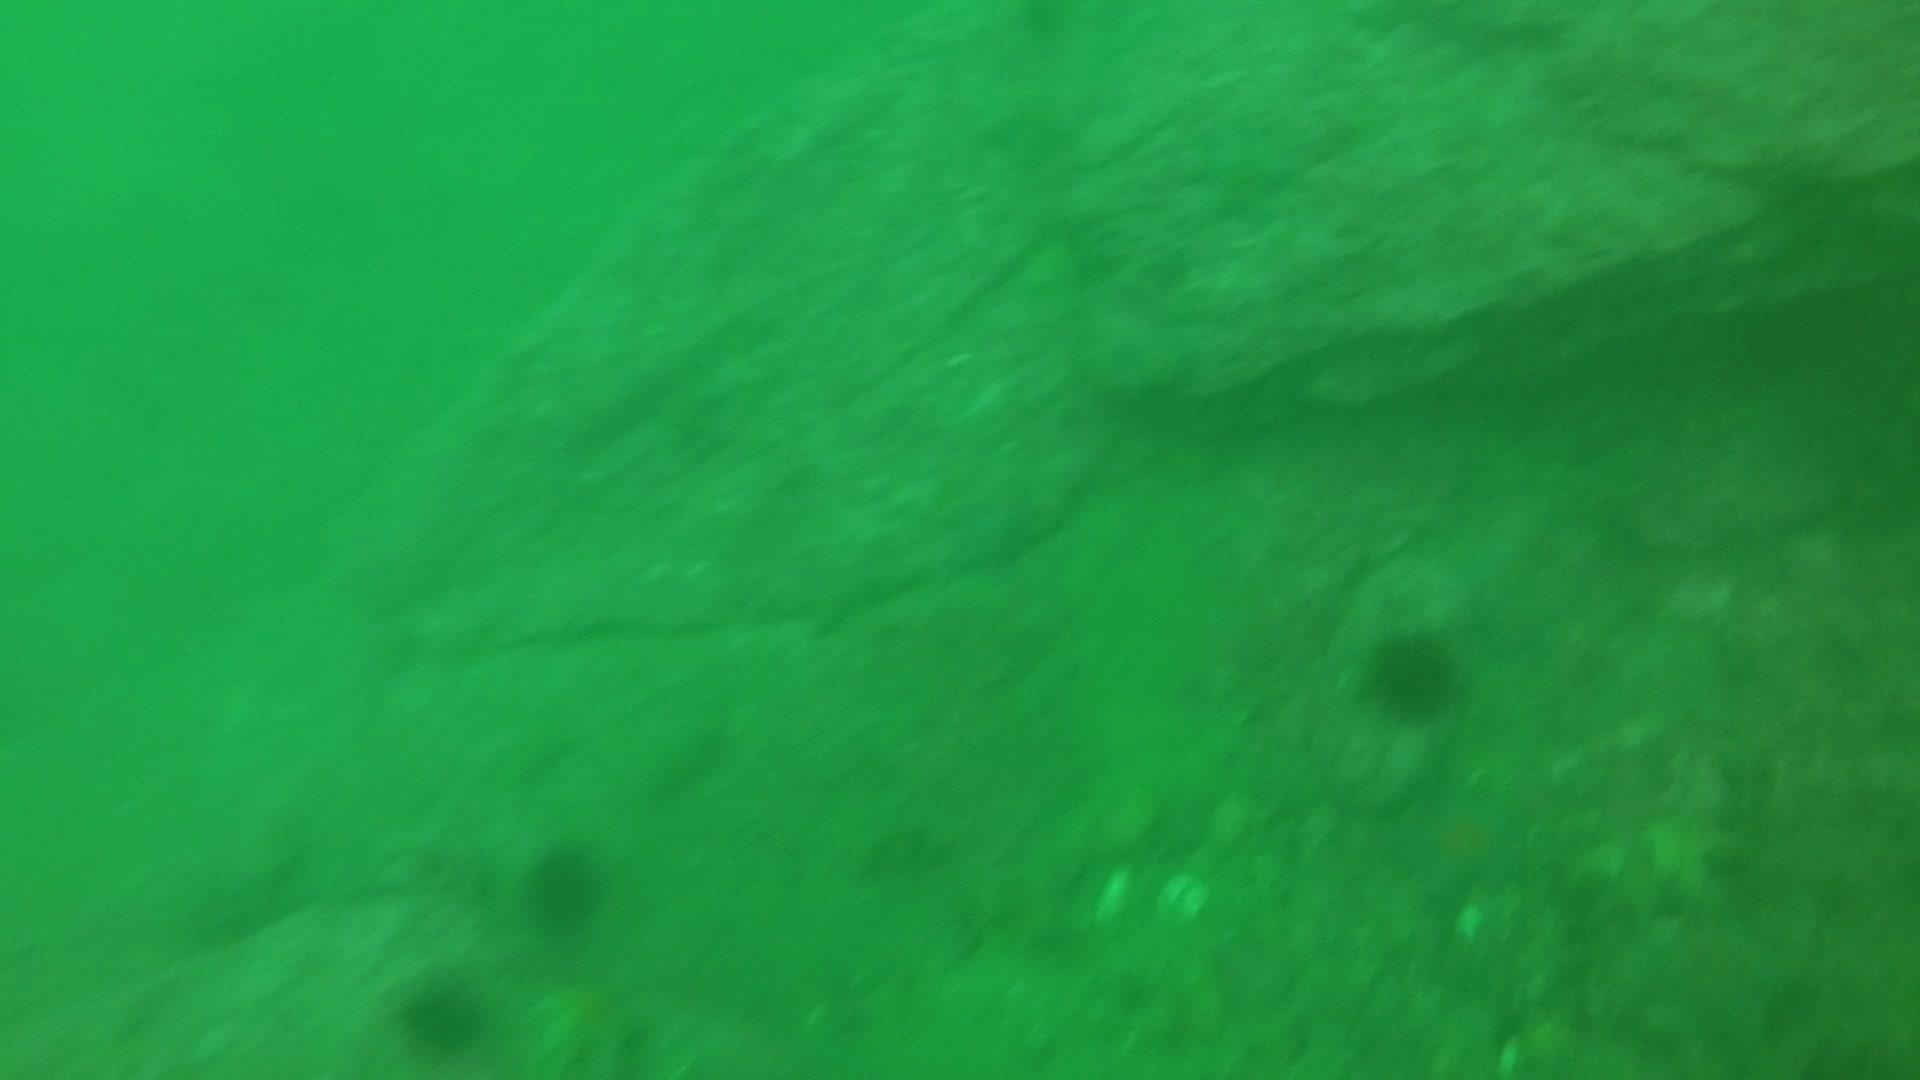echinus: (1360, 621, 1466, 724), (518, 835, 612, 938), (392, 969, 493, 1060)
starfish: (1393, 775, 1532, 911), (518, 971, 655, 1077)
